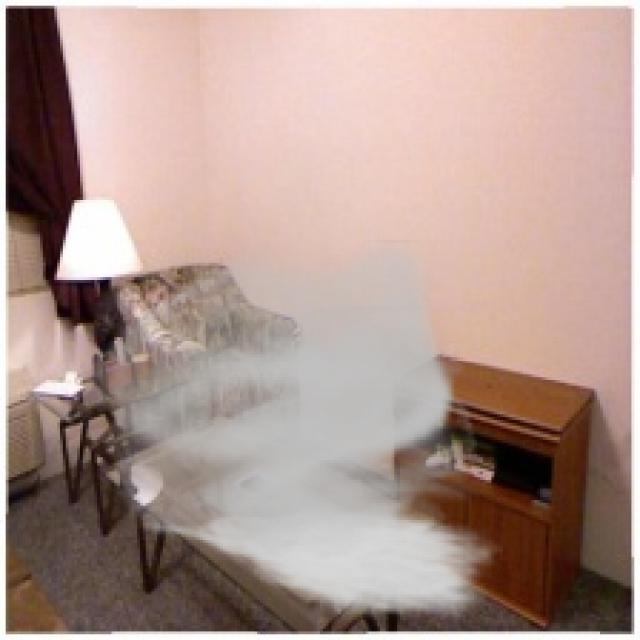smoke: (86, 240, 503, 623)
